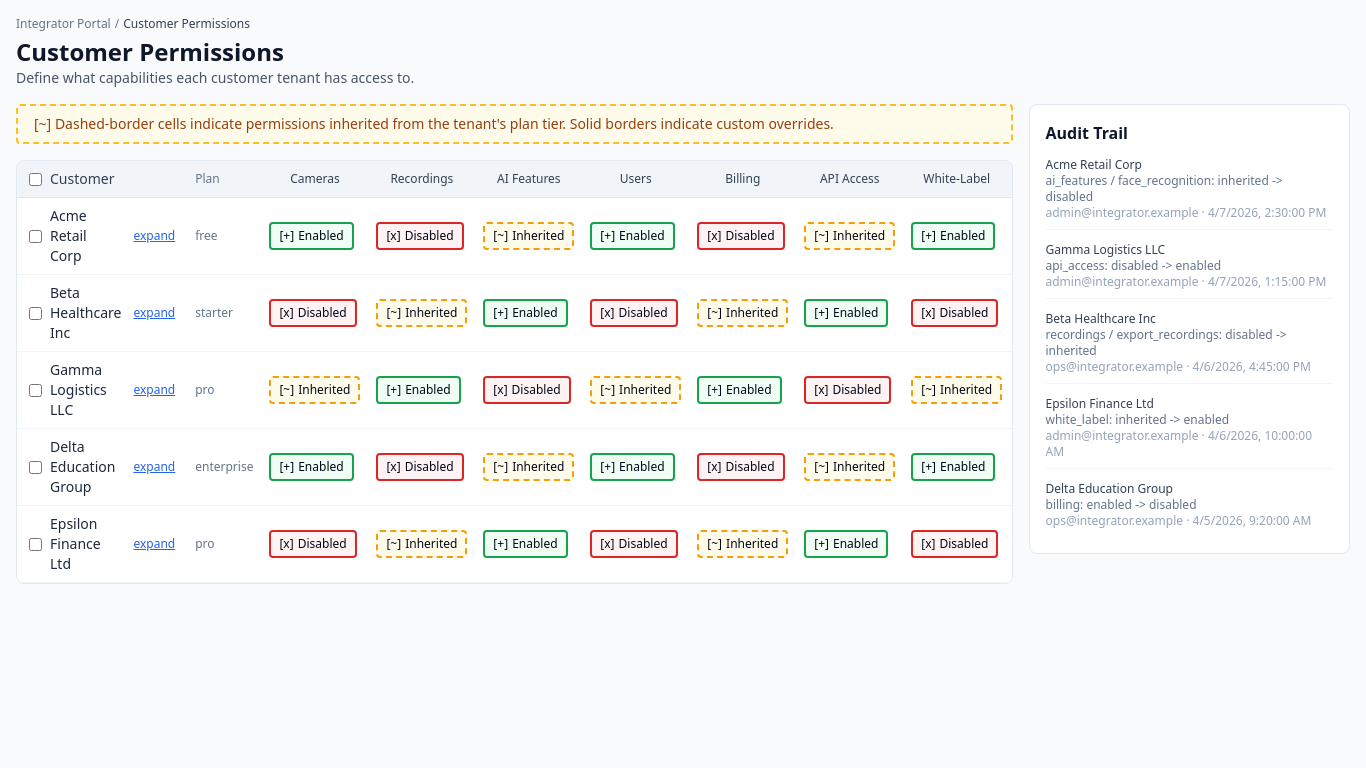
Test: PermissionsPage › bulk action applies permission to all selected tenants
The width and height of the screenshot is (1366, 768).
Expected: the element with test id "permissions-matrix" is shown, left=16, top=160, right=1012, bottom=584
Expected: the row with test id "tenant-row-cust-integrator-001-000" is shown, left=17, top=198, right=1012, bottom=274
// Select first two tenants
Click the checkbox with test id "select-cust-integrator-001-000": (36, 236) left=29, top=230, right=42, bottom=242
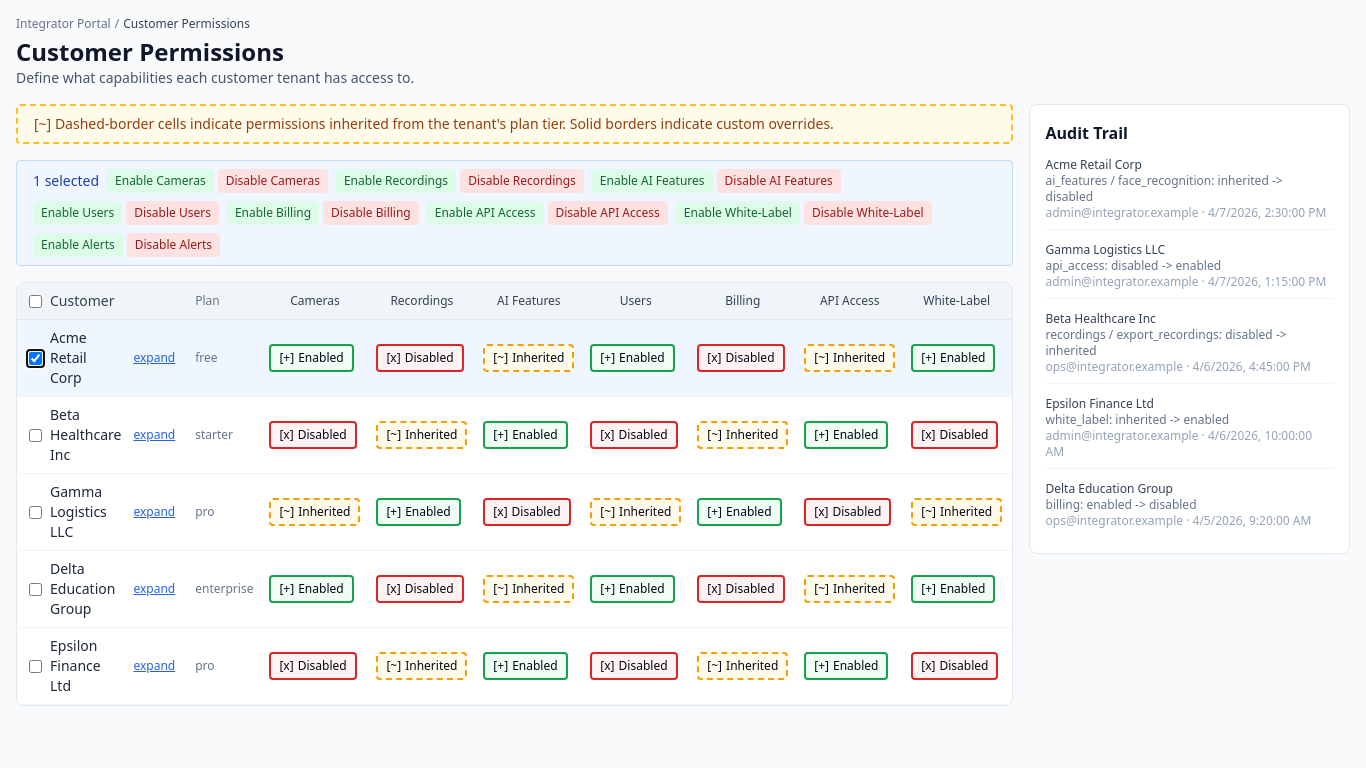
Click the checkbox with test id "select-cust-integrator-001-001": (36, 435) left=29, top=428, right=42, bottom=442
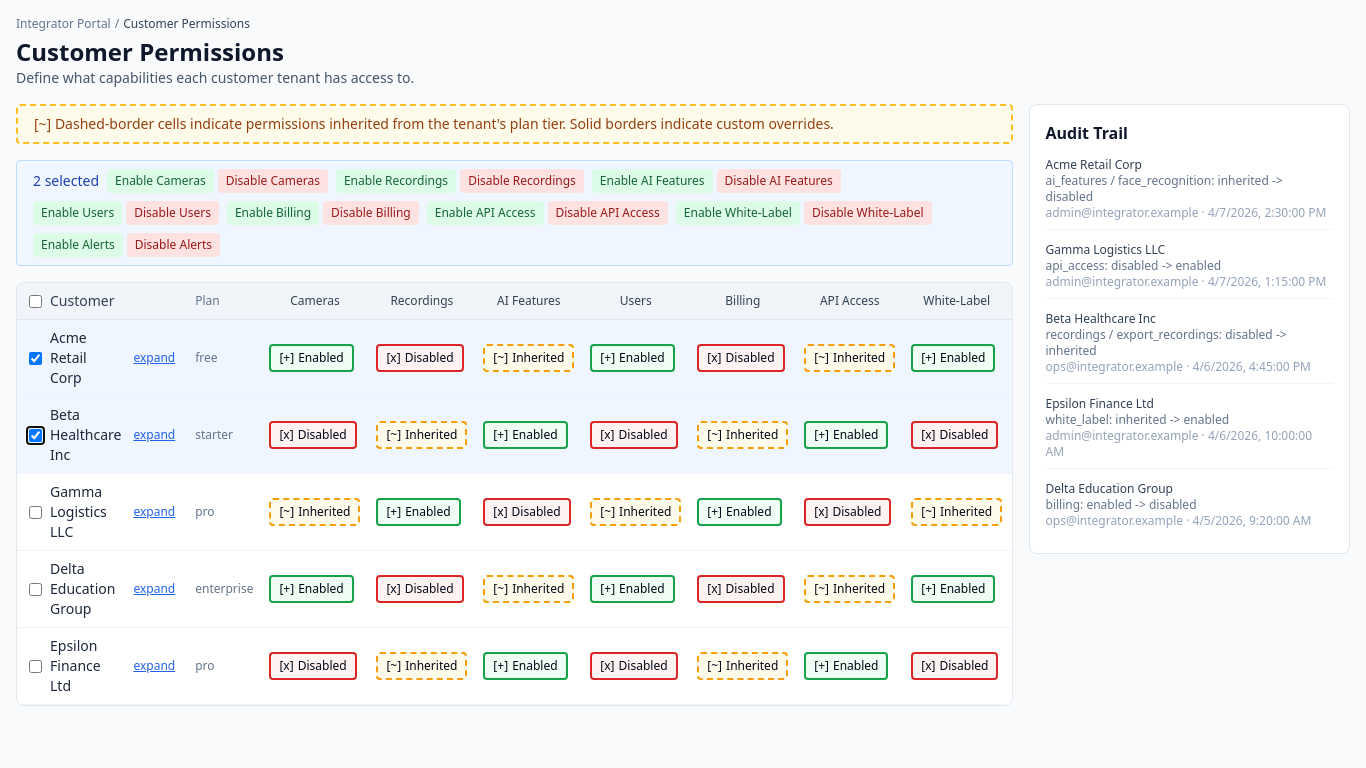
Expected: the element with test id "bulk-actions-toolbar" is shown, left=16, top=160, right=1012, bottom=266
Expected: the text "2 selected" is shown, left=33, top=171, right=99, bottom=191
// Click bulk enable for cameras
Click the button with test id "bulk-enable-cameras": (160, 181) left=107, top=169, right=214, bottom=193
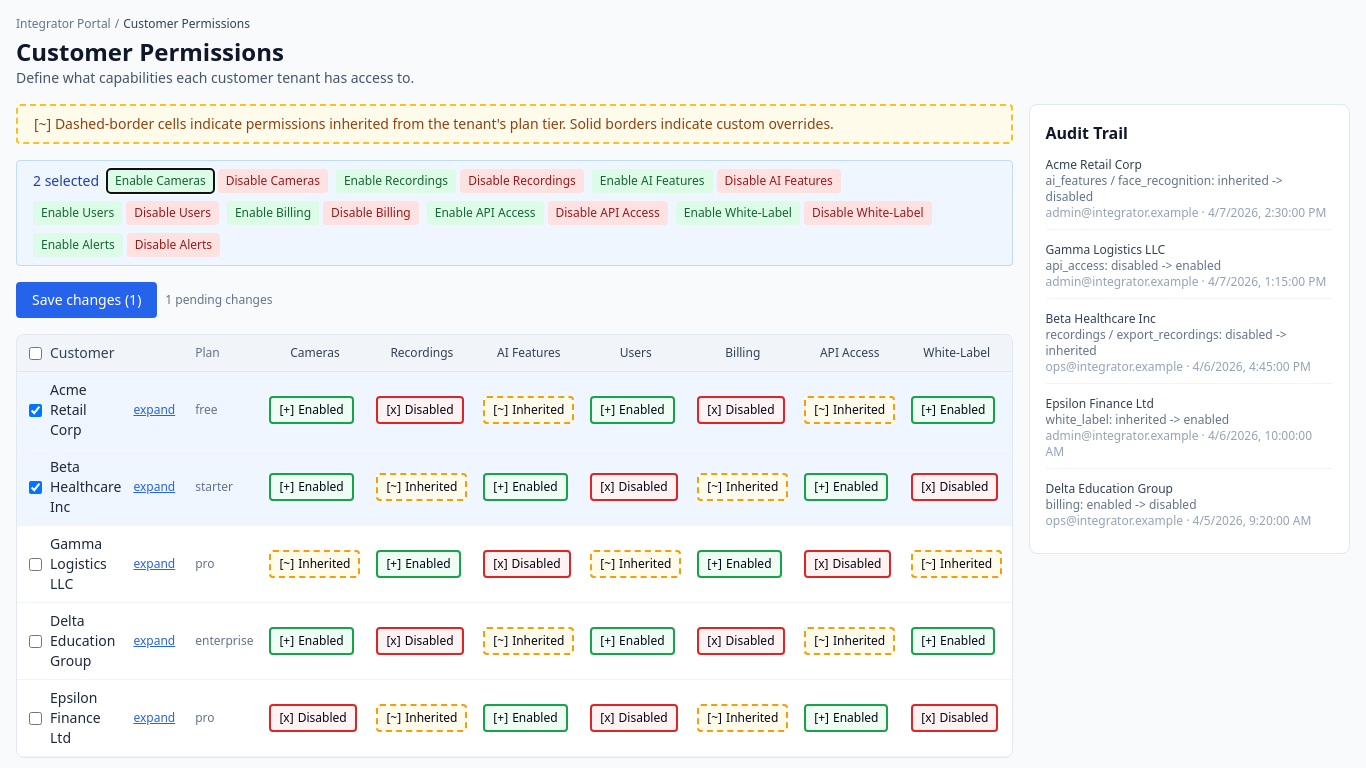
Expected: the button with test id "save-button" is shown, left=16, top=282, right=157, bottom=318
